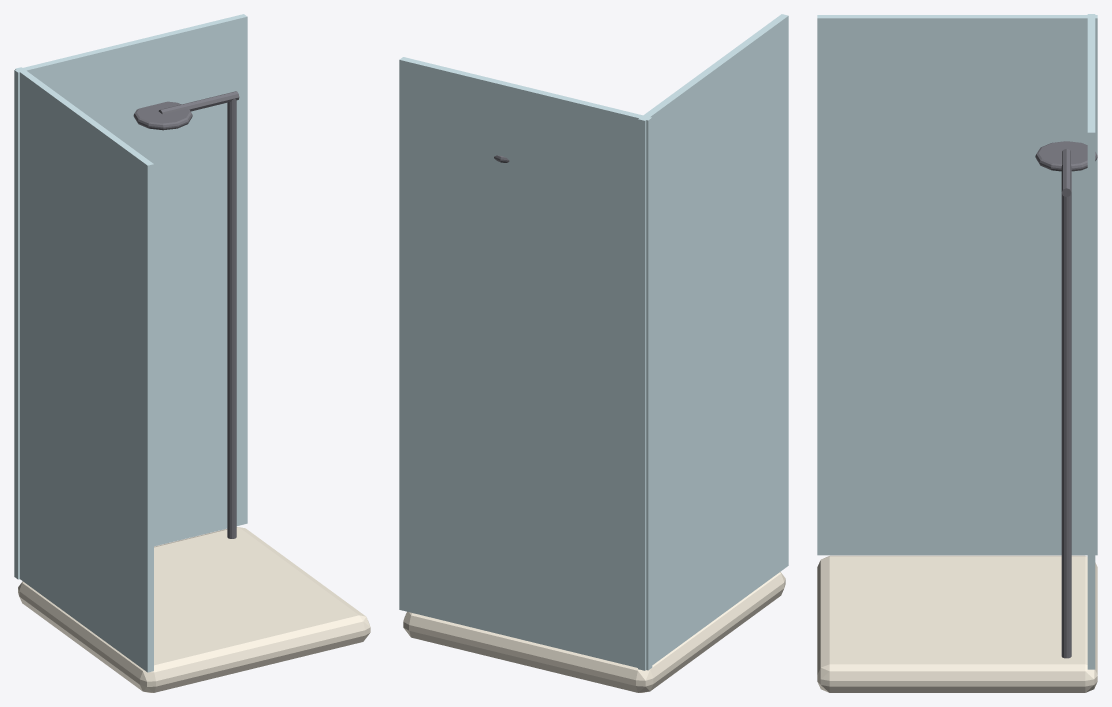
The model's file is cozy-home-interiors-shower-cubicle-28d32d99.glb.
The picture shows the model from 3 angles, left to right: view 1: azimuth 30°, elevation 25°; view 2: azimuth 150°, elevation 25°; view 3: azimuth 270°, elevation 25°; orthographic projection. The views are drawn at different scales.
Visible parts, largest first — view 1: shower-cubicle; view 2: shower-cubicle; view 3: shower-cubicle.
Part boxes in pixels (left/top/right/bottom): shower-cubicle: left=14, top=14, right=370, bottom=692; shower-cubicle: left=399, top=14, right=788, bottom=692; shower-cubicle: left=817, top=14, right=1097, bottom=692.
Size of the model in its own units: 0.9 by 2 by 0.9.
